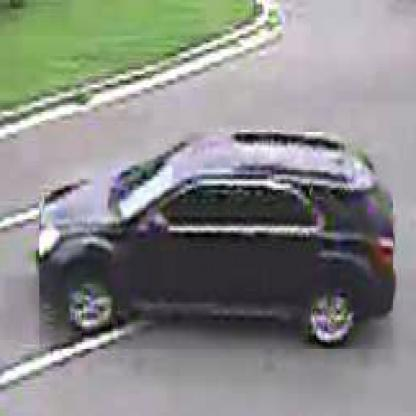car: (39, 133, 394, 352)
